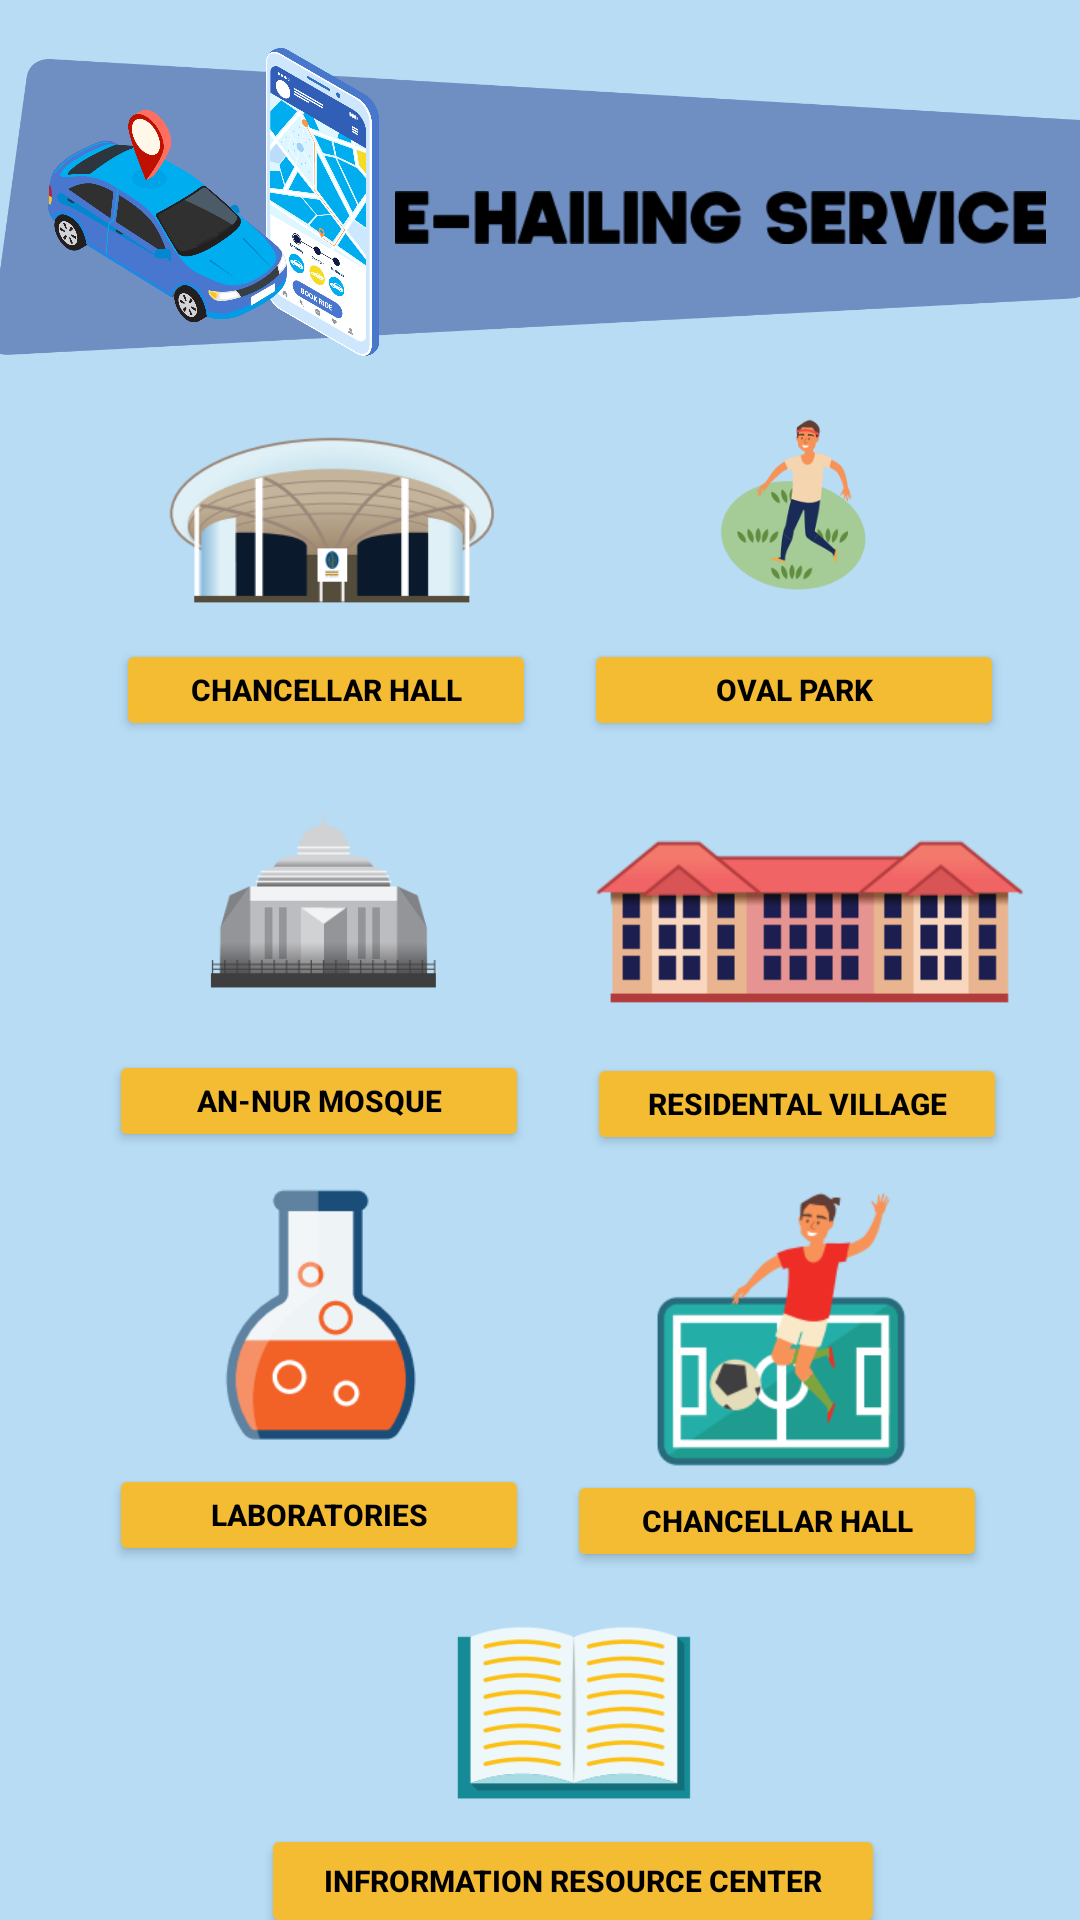

Where icons sit on this 1080 x 1920 app screen, as (x1, y1, x2, y2):
sport complex: (657, 1193, 906, 1466)
